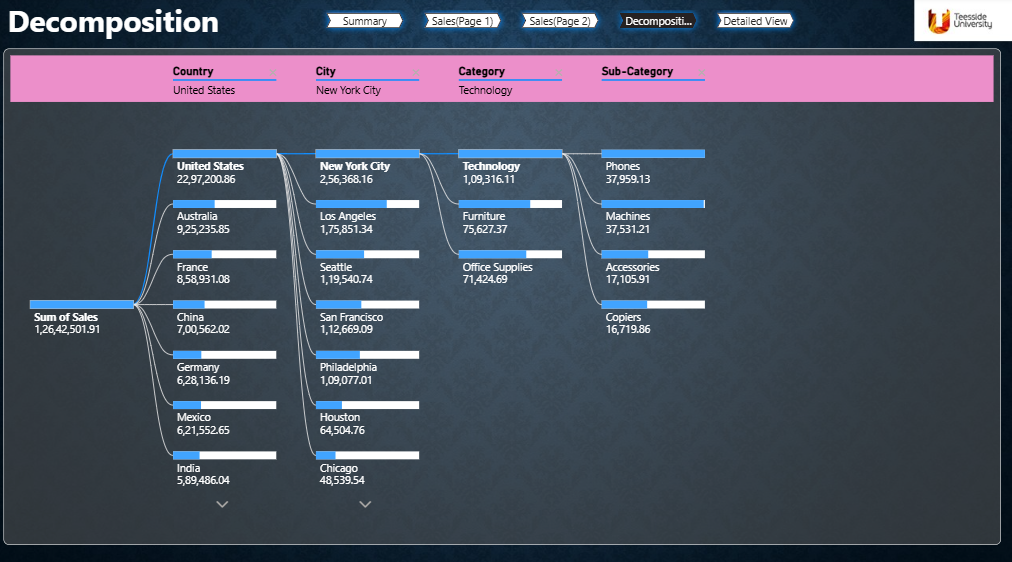

Layout of this report page (visuals, bound fields, positions):
{"tool":"powerbi","page":{"name":"Decomposition","canvas":[1280,720],"ordinal":3},"visuals":[{"type":"textbox","box":[9.5,0,332.4,65.2],"z":0},{"type":"decompositionTreeVisual","fields":{"Analyze":["Sum(Orders.Sales)"],"ExplainBy":["Orders.Country","Orders.City","Product.Category","Product.Sub-Category"]},"box":[9.4,66.1,1256.7,625.5],"z":1000},{"type":"pageNavigator","box":[408,14,605.2,35.4],"z":1001}]}

Visuals, with their boxes in screenshot pixels (x1, y1, x2, y2), scaled from the page's 1280x720 canvas onto the 1012x562 screenshot:
textbox: (x1=8, y1=0, x2=270, y2=51)
decompositionTreeVisual - Sum(Orders.Sales) x Orders.Country: (x1=7, y1=52, x2=1001, y2=540)
pageNavigator: (x1=323, y1=11, x2=801, y2=39)
